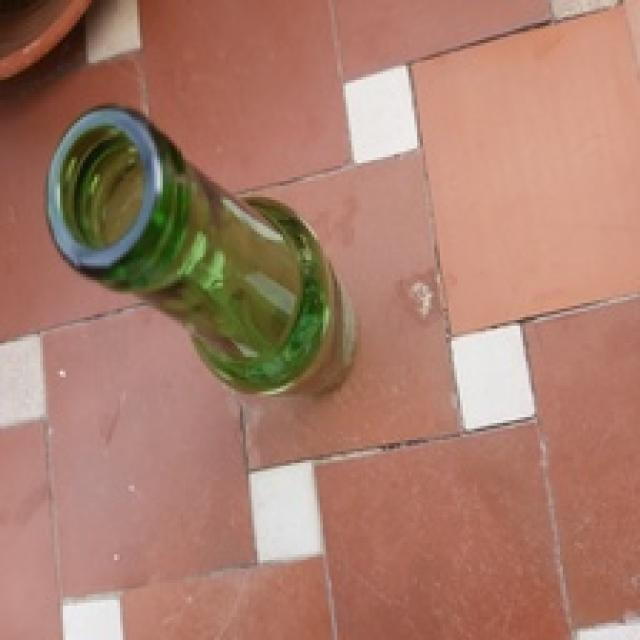Glass: (46, 102, 347, 396)
